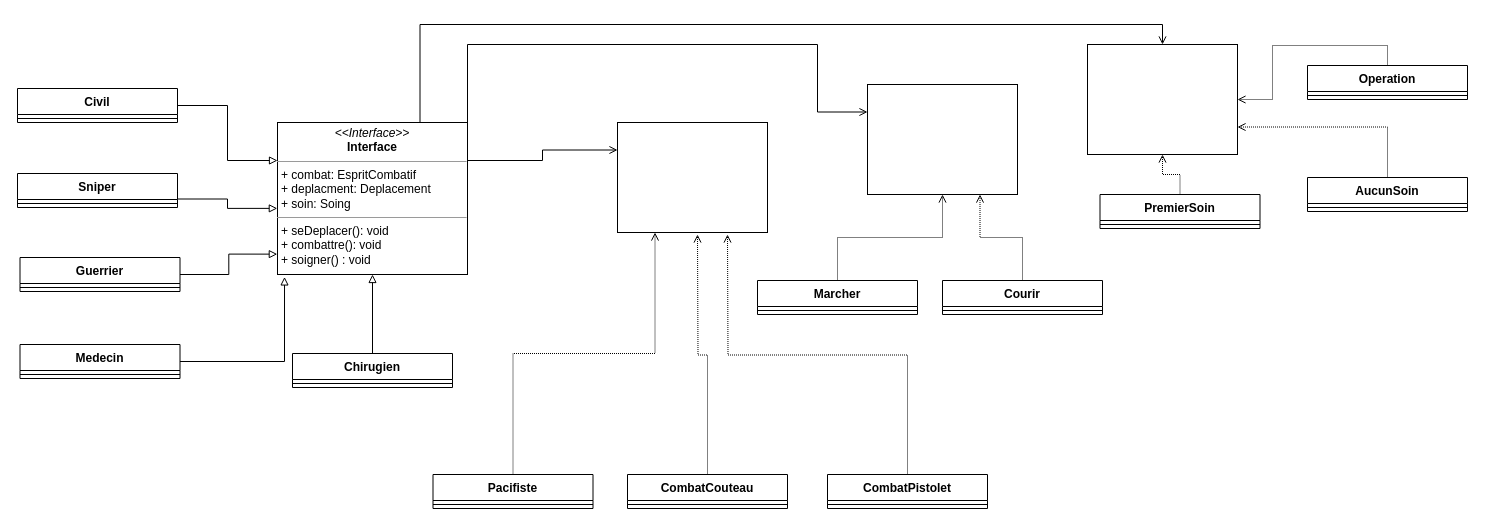
The diagram is 1485 pixels wide and 526 high, and some of its shapes have lost their labels. The shapes that lost their labels are listed below. From the top down, each one's box as (x1, y1, x2, y2) in pixels, then its label:
(1086, 44, 1238, 154): <<Interface>> Soin + soigner(): void
(866, 84, 1018, 194): <<Interface>> Deplacement + deplacer(): void
(616, 122, 768, 232): <<Interface>> EspritCombatif + combat(): void
